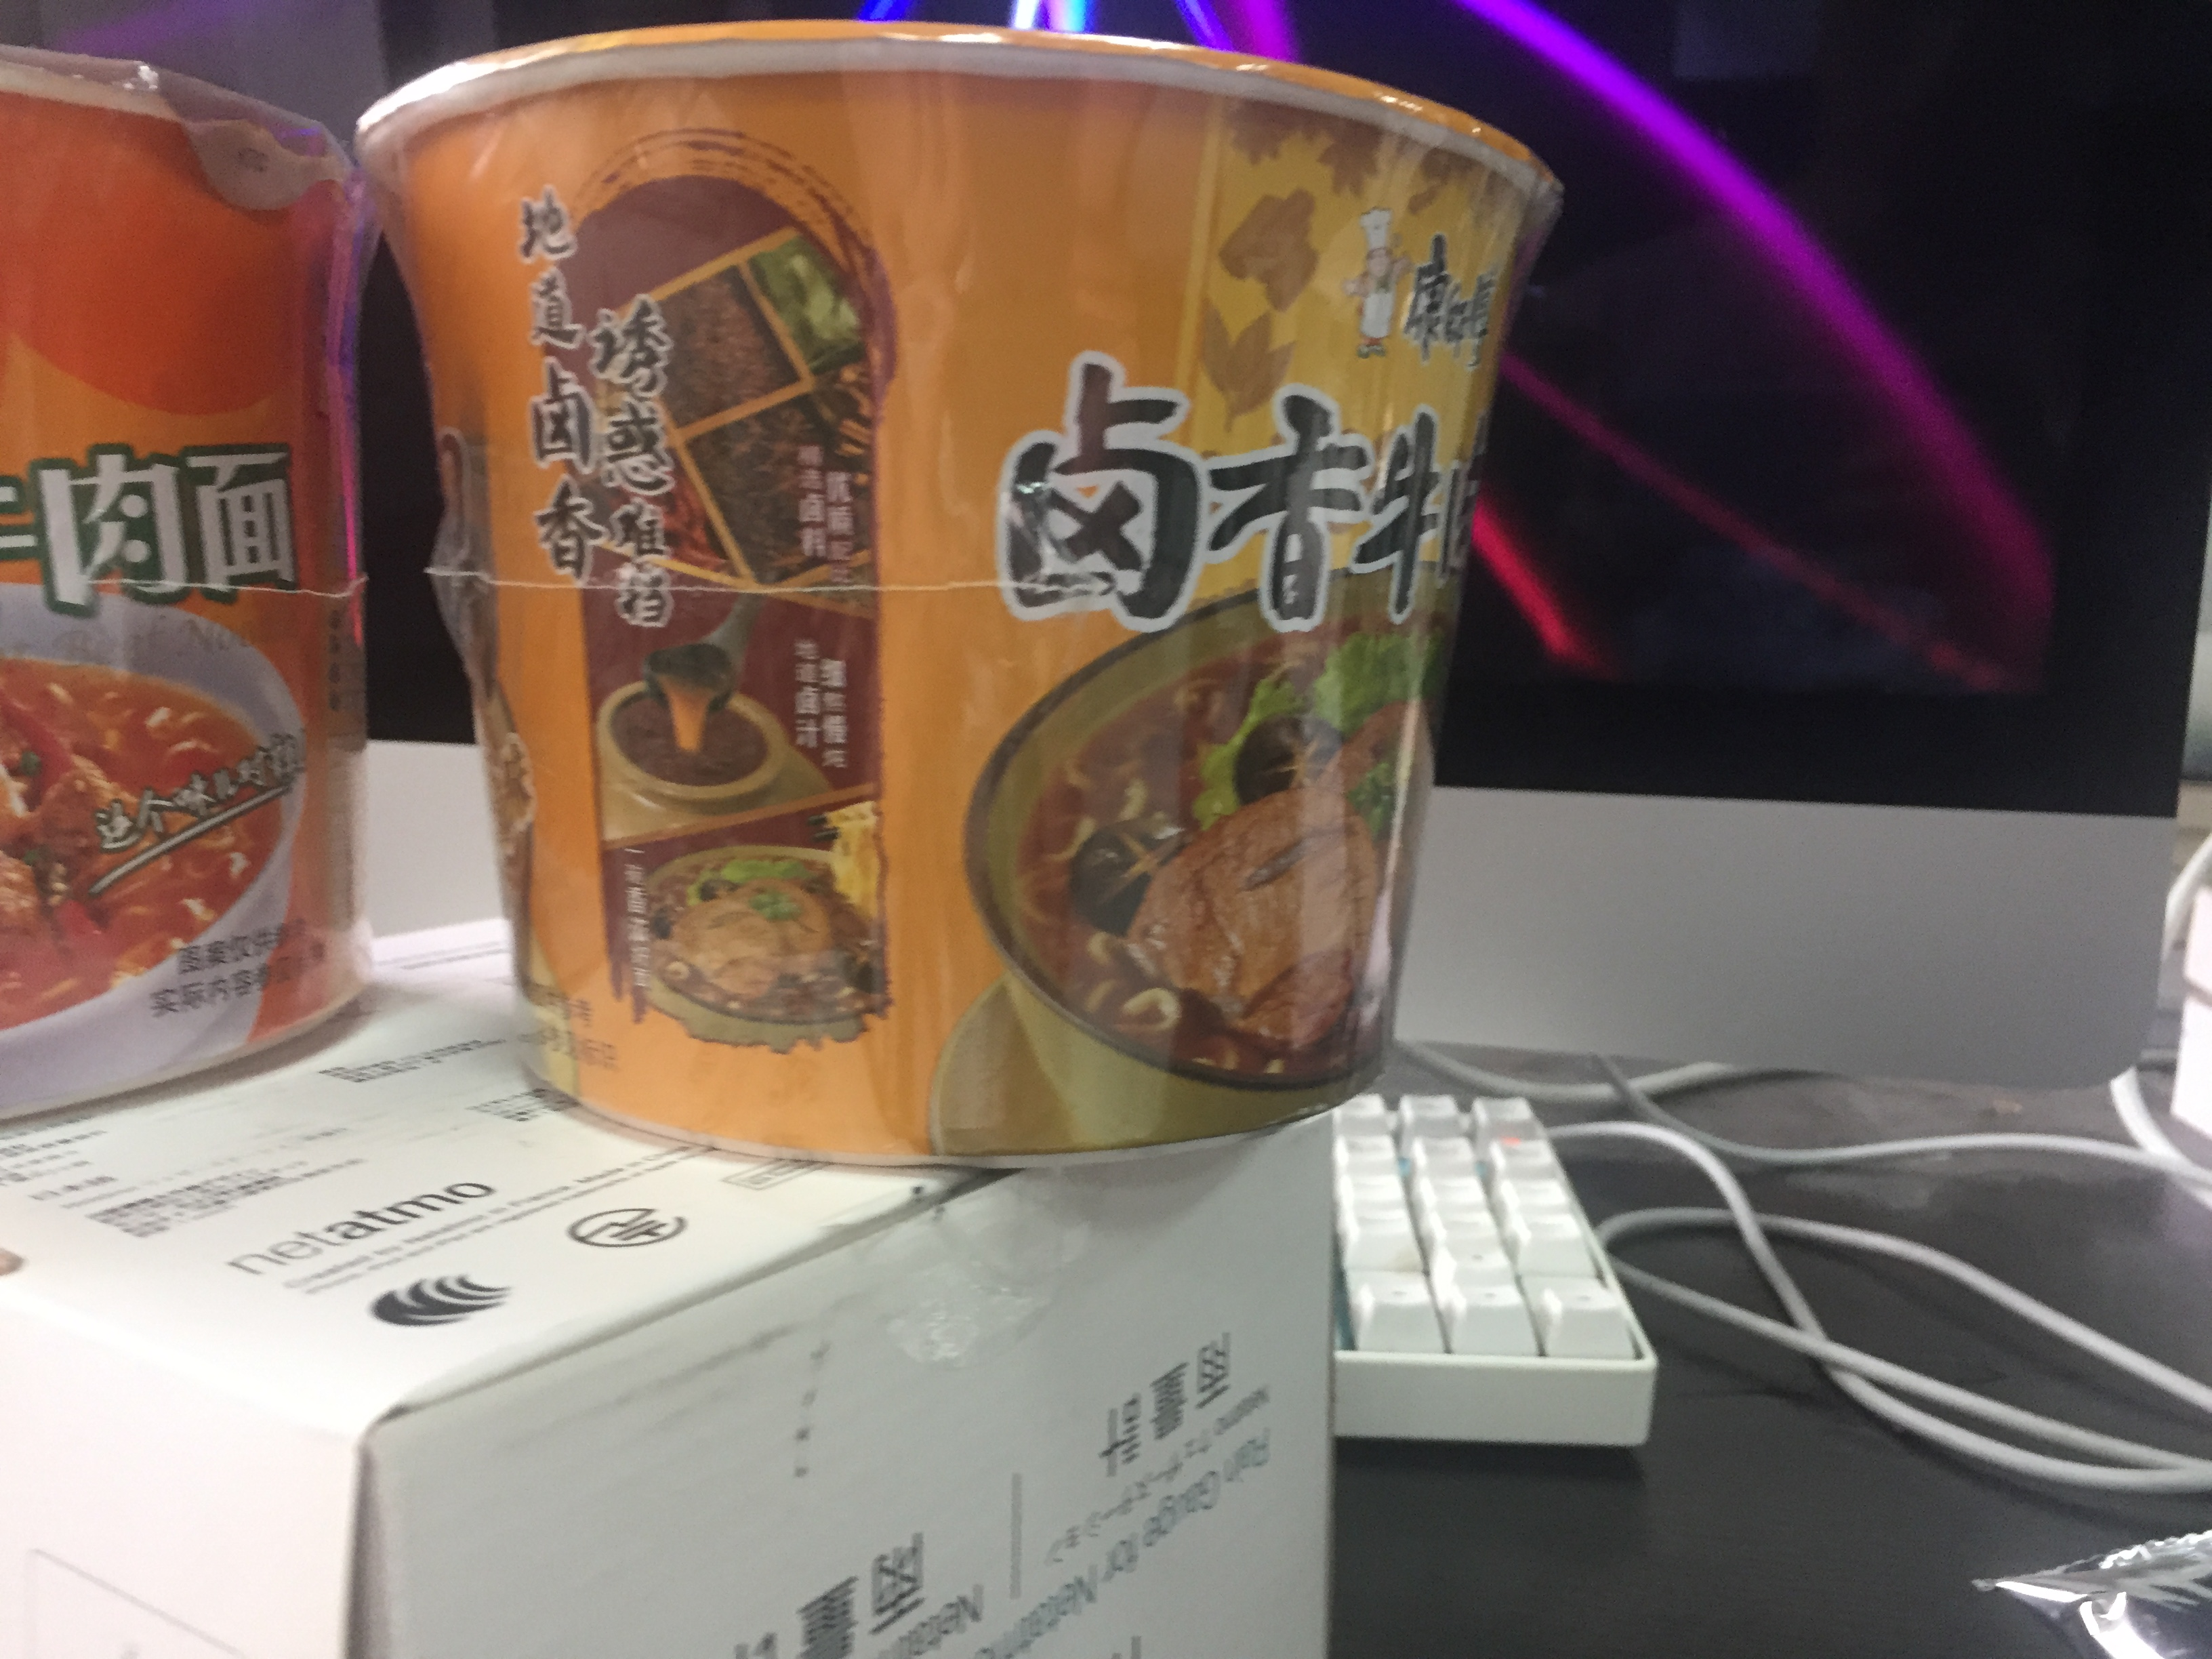luxiang: (354, 24, 1571, 1176)
